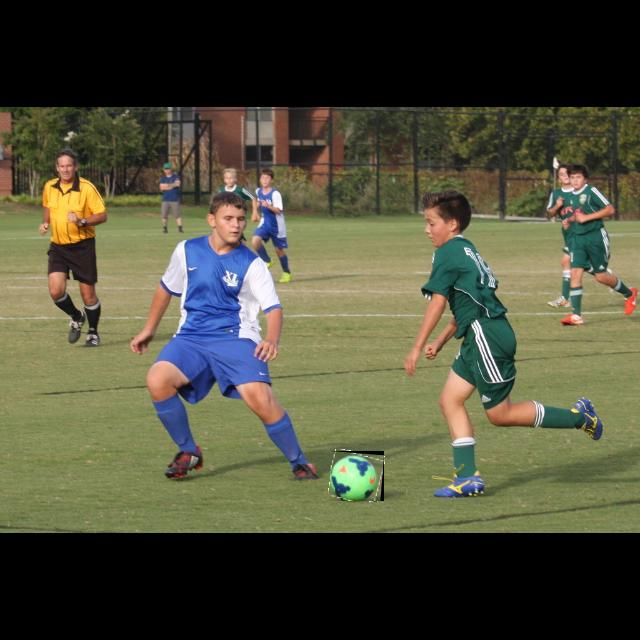Football: (330, 451, 384, 501)
